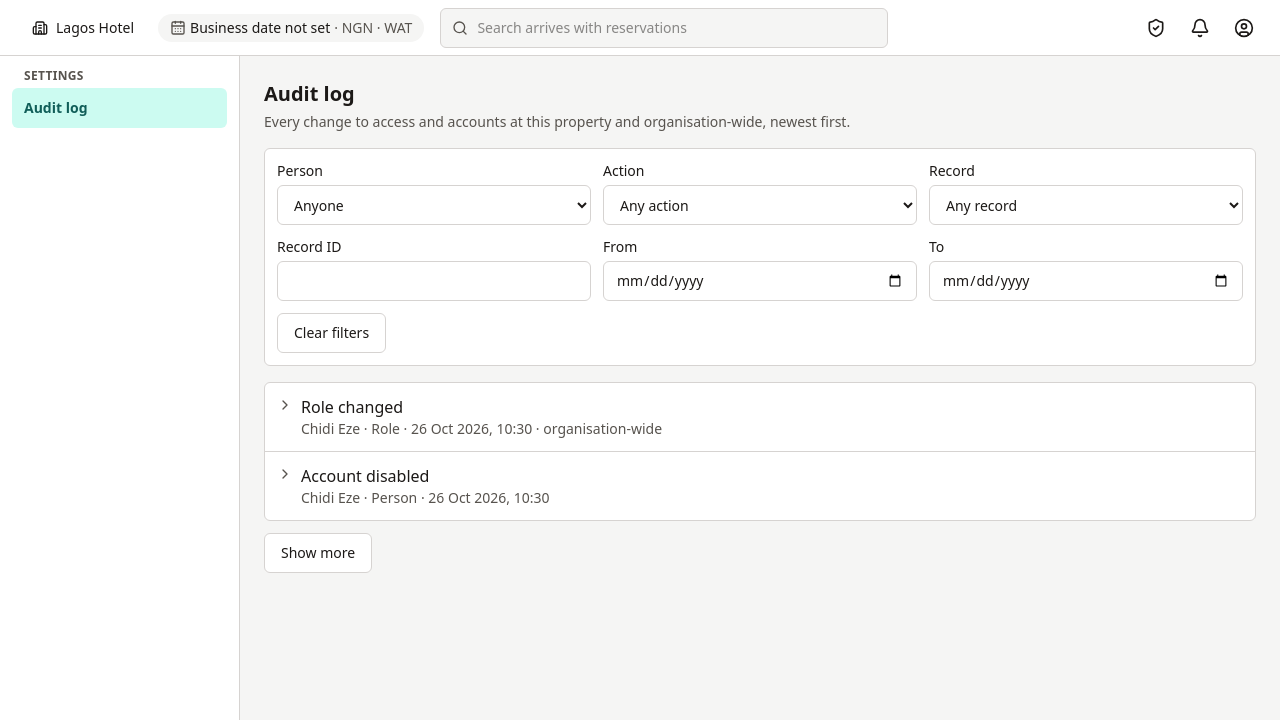
Scenario: Audit log (S27) › loads more with the cursor
Step 1. Click the button "Show more" → (318, 553), box [264,533,372,573]
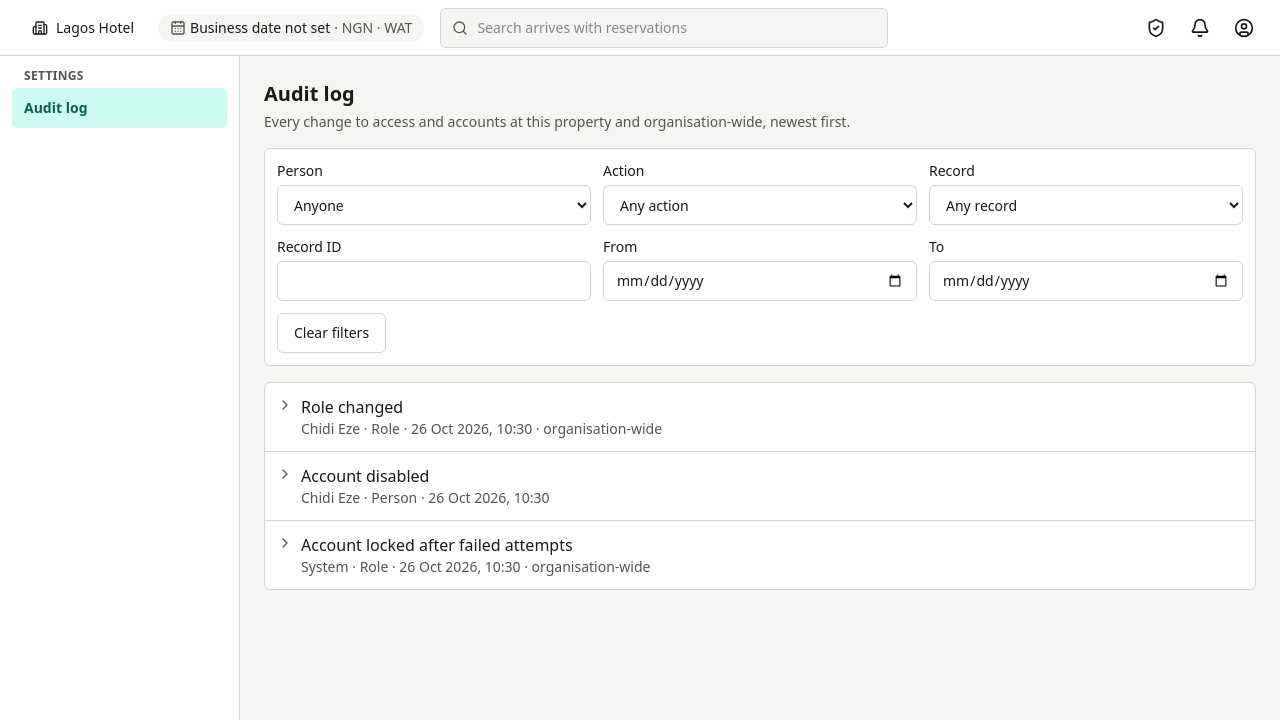
Now the text "Account locked after failed attempts" is shown, box [301,534,573,556]
Now the text "System · Role · 26 Oct 2026, 10:30 · organisation-wide" is shown, box [301,557,650,576]
Now the button "Show more" is gone
